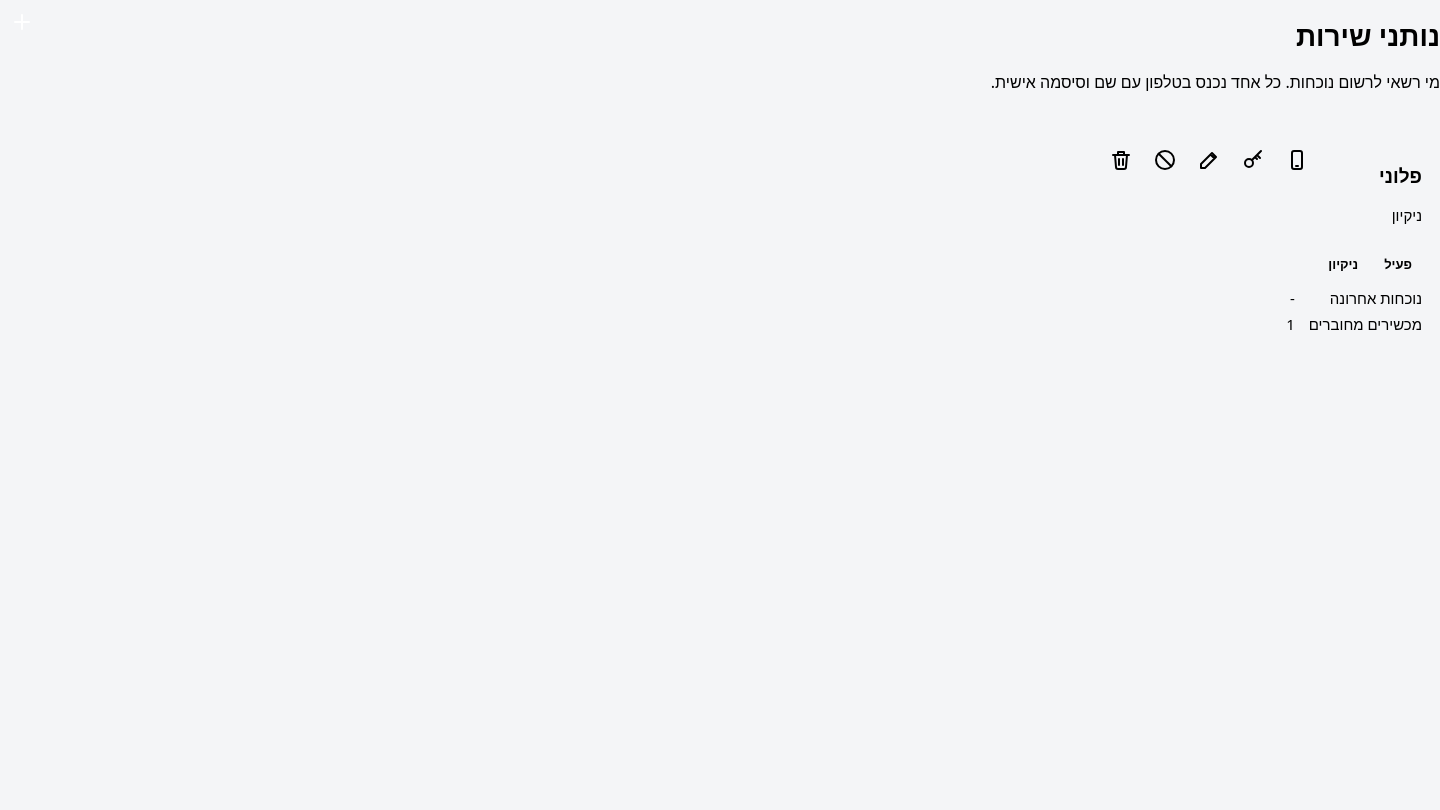
Scenario: the phones dialog › lists the phones, each with everything that it reported and when the server last heard from it
This screenshot has width=1440, height=810.
expect the heading "פלוני" is shown: met, box [1379, 163, 1422, 189]
Click the button named "מכשירים": (1296, 160) [1274, 138, 1318, 182]
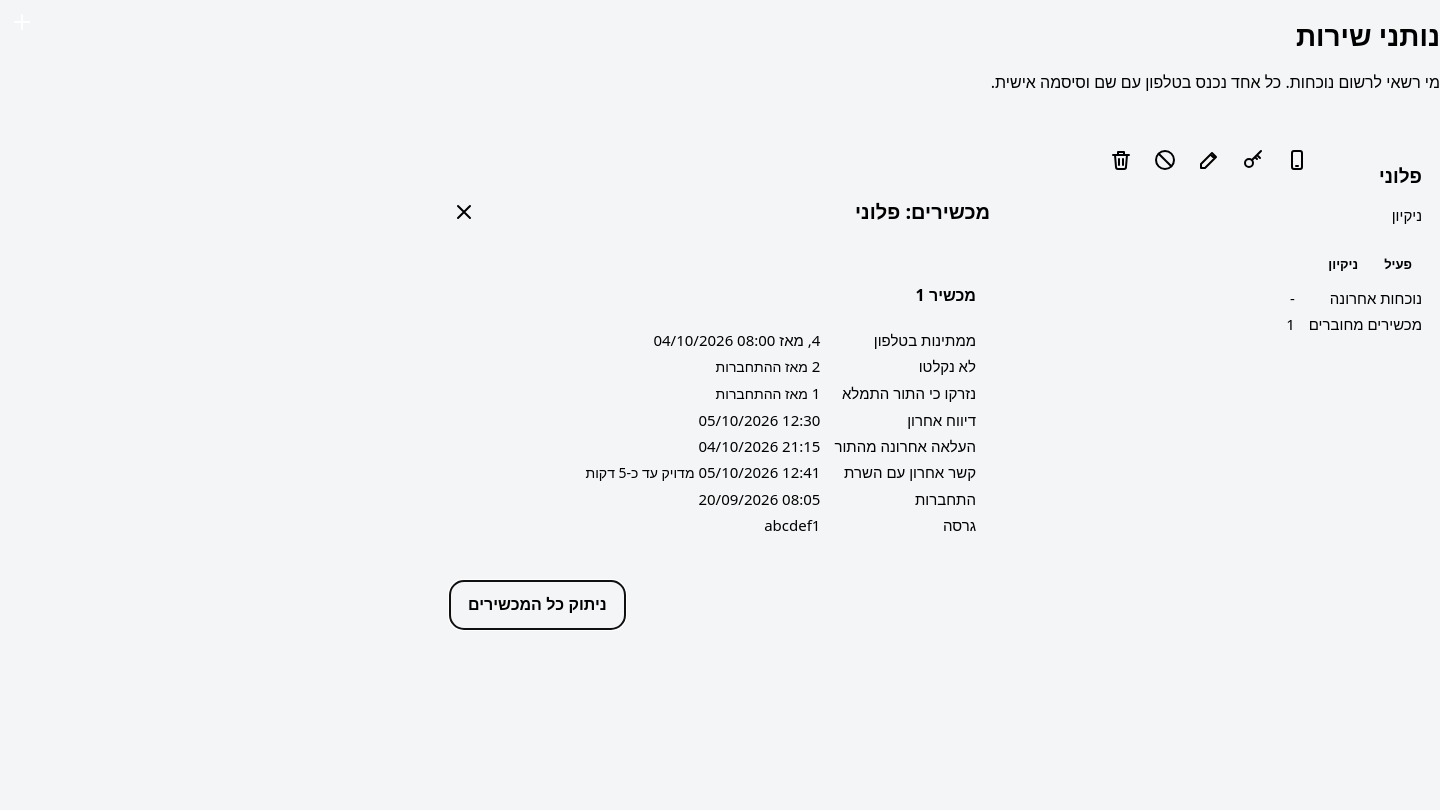
expect the element showing "20/09/2026 08:05" is shown: met, box [698, 489, 820, 509]
expect the element showing "05/10/2026 12:30" is shown: met, box [698, 410, 820, 430]
expect the element showing "04/10/2026 21:15" is shown: met, box [698, 436, 820, 456]
